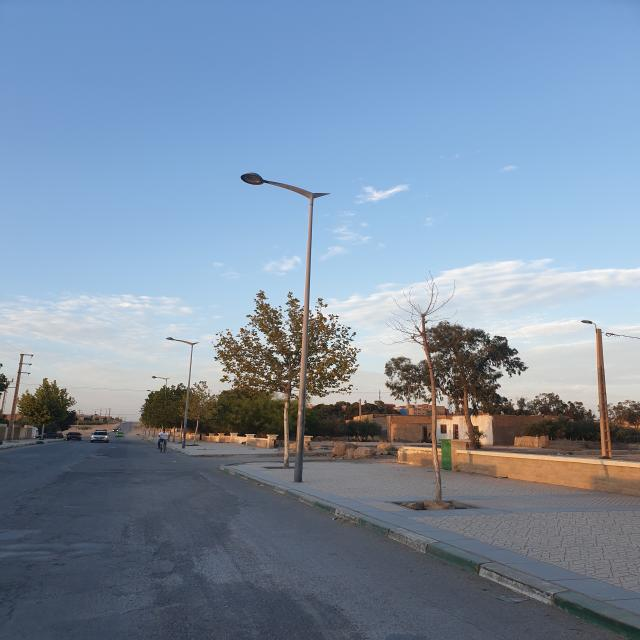Electric pole: (241, 173, 328, 483), (165, 337, 198, 449), (592, 323, 613, 458)
Tree: (213, 291, 303, 436), (427, 322, 527, 448), (306, 299, 359, 397), (385, 357, 433, 401)
